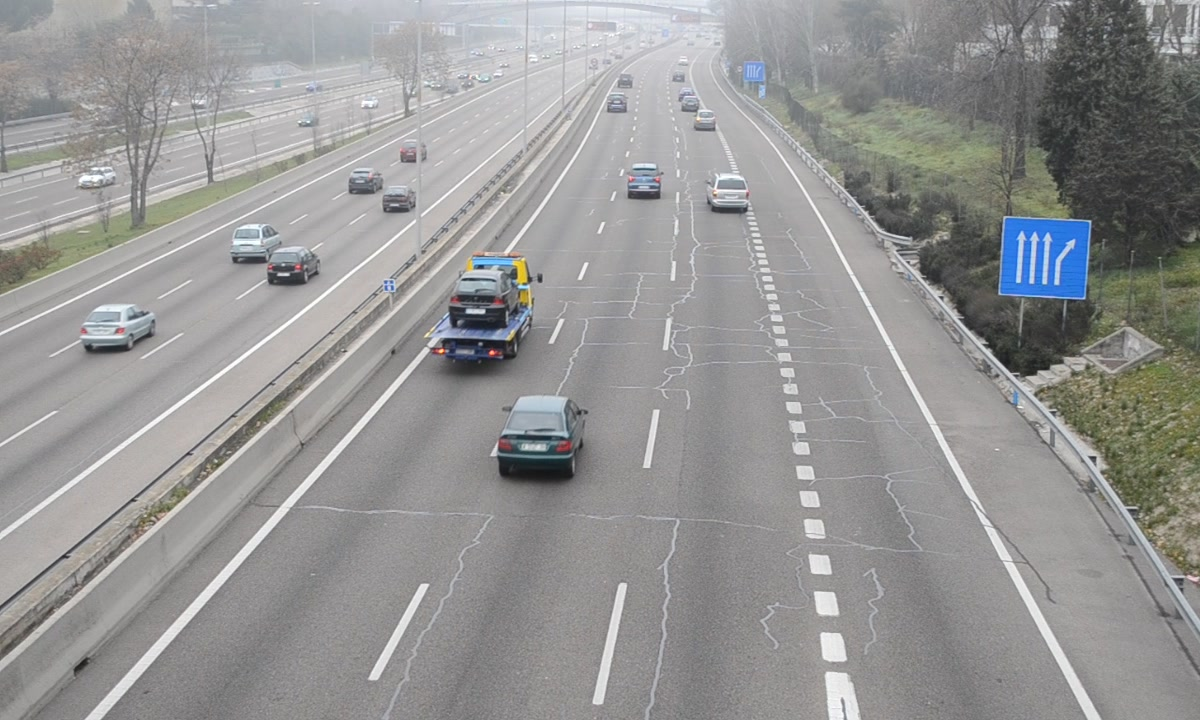car: (500, 398, 585, 465), (706, 173, 751, 213), (626, 163, 662, 195), (693, 108, 719, 131), (606, 90, 628, 114)
small-truck: (423, 252, 534, 362)
